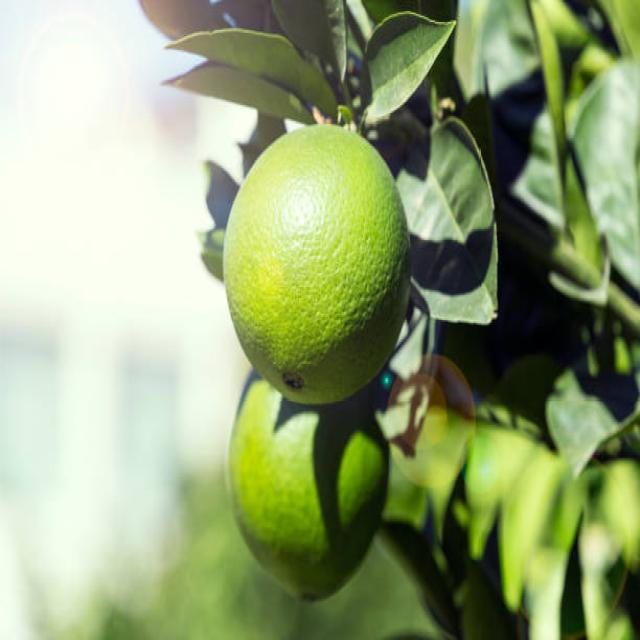Unripe: (224, 116, 410, 412)
